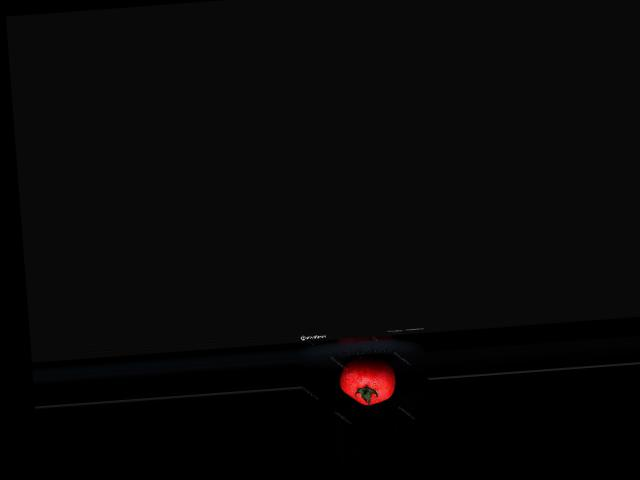tomato: (338, 354, 398, 407)
